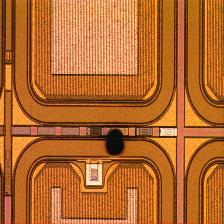PARTICLE: (104, 128, 127, 158)
